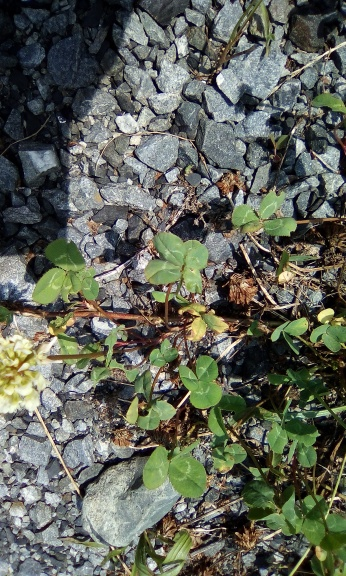4leaf: (143, 232, 210, 296)
